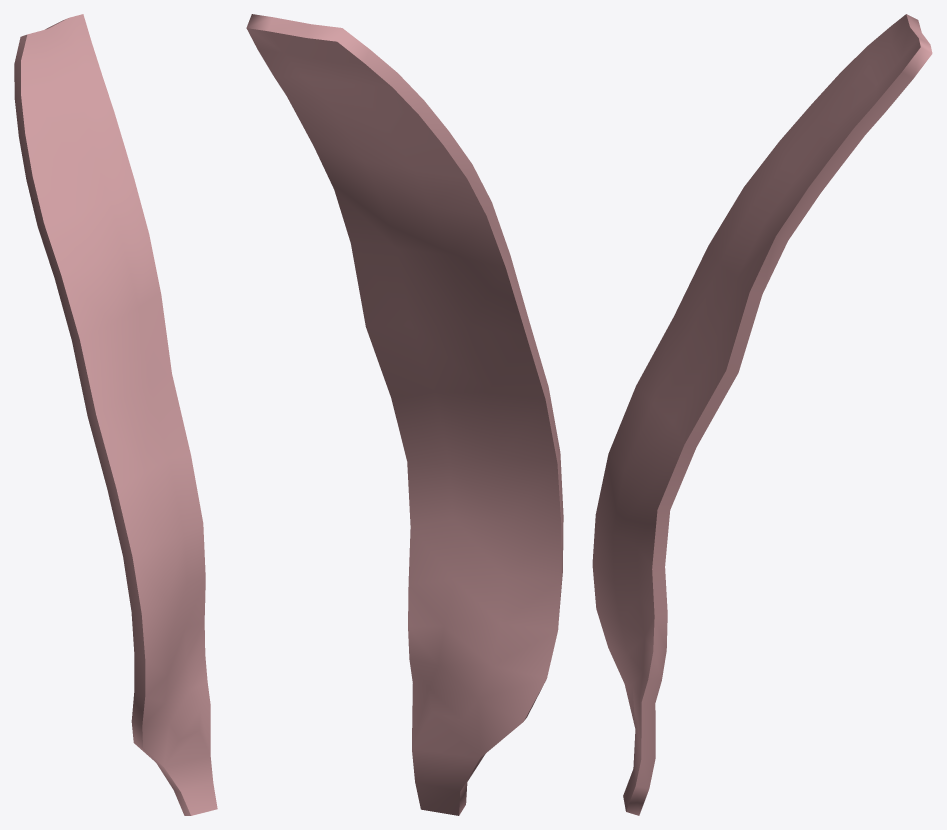
The picture shows the model from 3 angles, left to right: view 1: azimuth 30°, elevation 25°; view 2: azimuth 150°, elevation 25°; view 3: azimuth 270°, elevation 25°; orthographic projection. The views are drawn at different scales.
Visible parts, largest first — view 1: ZA_da6bc2fda1cb4044; view 2: ZA_da6bc2fda1cb4044; view 3: ZA_da6bc2fda1cb4044.
Part boxes in pixels (x1,y1,x2,y2): ZA_da6bc2fda1cb4044: (14,14,217,815); ZA_da6bc2fda1cb4044: (246,14,563,815); ZA_da6bc2fda1cb4044: (592,14,932,815).
Bounding box in the file's own units: 0.0281 × 0.1794 × 0.0718.
